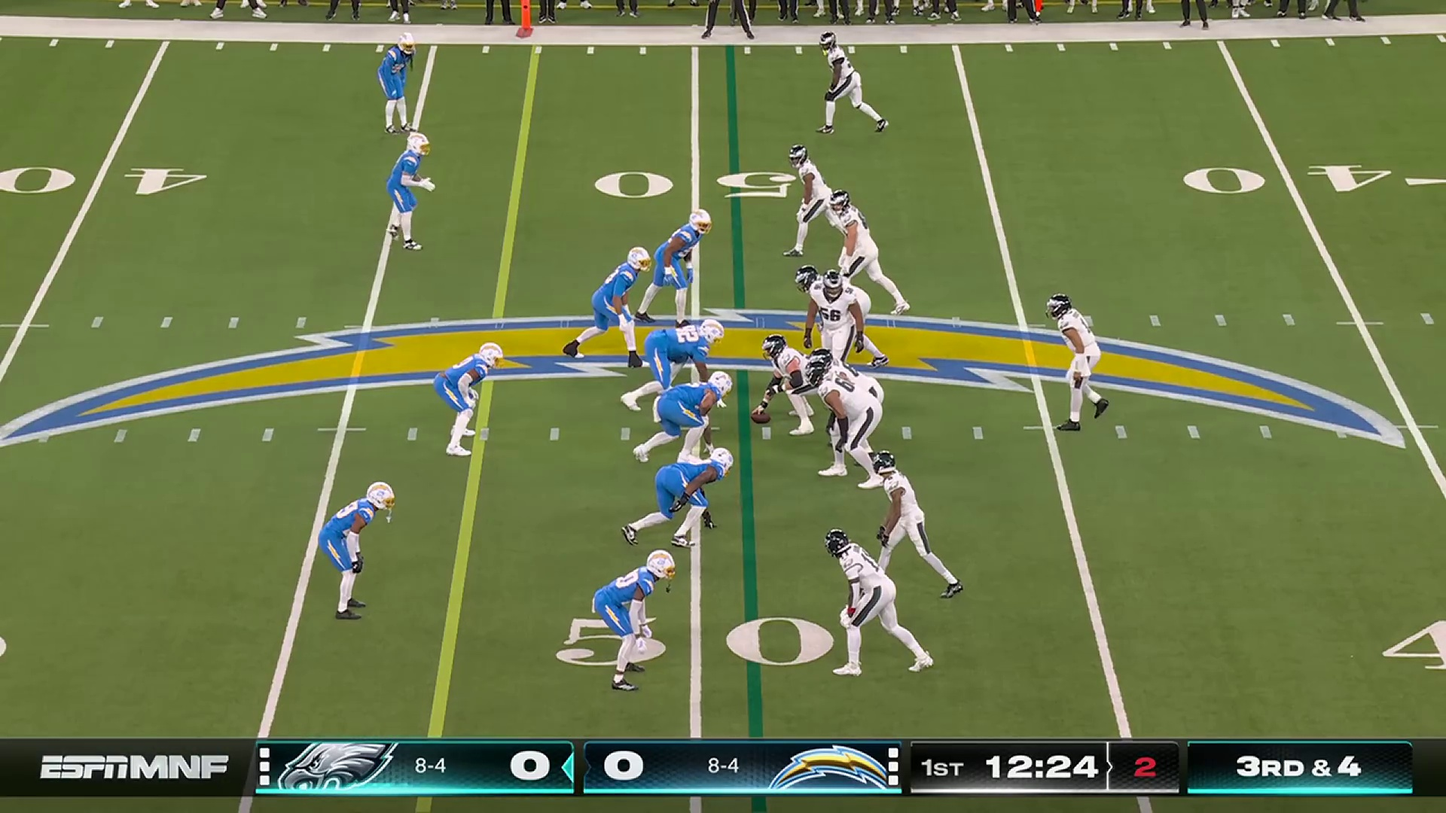ball: (751, 409, 771, 426)
player: (820, 525, 933, 675), (804, 172, 911, 320), (863, 455, 965, 601), (587, 551, 683, 699), (625, 444, 734, 557), (313, 480, 392, 625), (1038, 294, 1119, 434), (616, 316, 724, 417), (788, 268, 889, 373), (570, 248, 652, 376), (805, 370, 895, 484), (809, 25, 894, 142), (636, 370, 732, 468), (804, 348, 897, 447), (431, 344, 505, 467), (790, 145, 863, 262), (651, 210, 718, 331), (800, 274, 876, 377), (754, 334, 819, 429), (382, 131, 431, 256), (369, 31, 419, 137)
